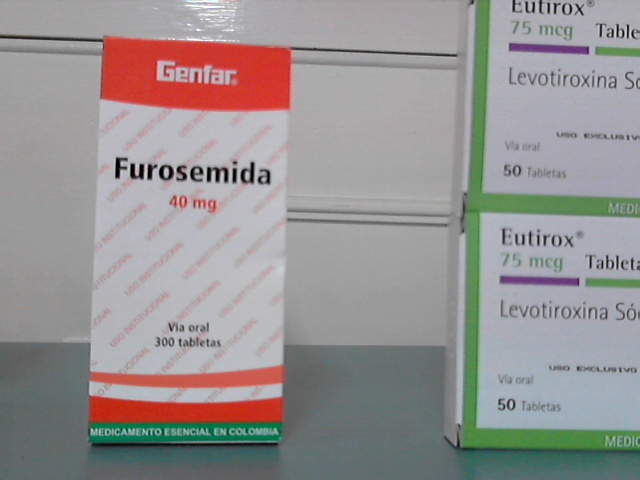Genfar: (90, 38, 283, 443)
